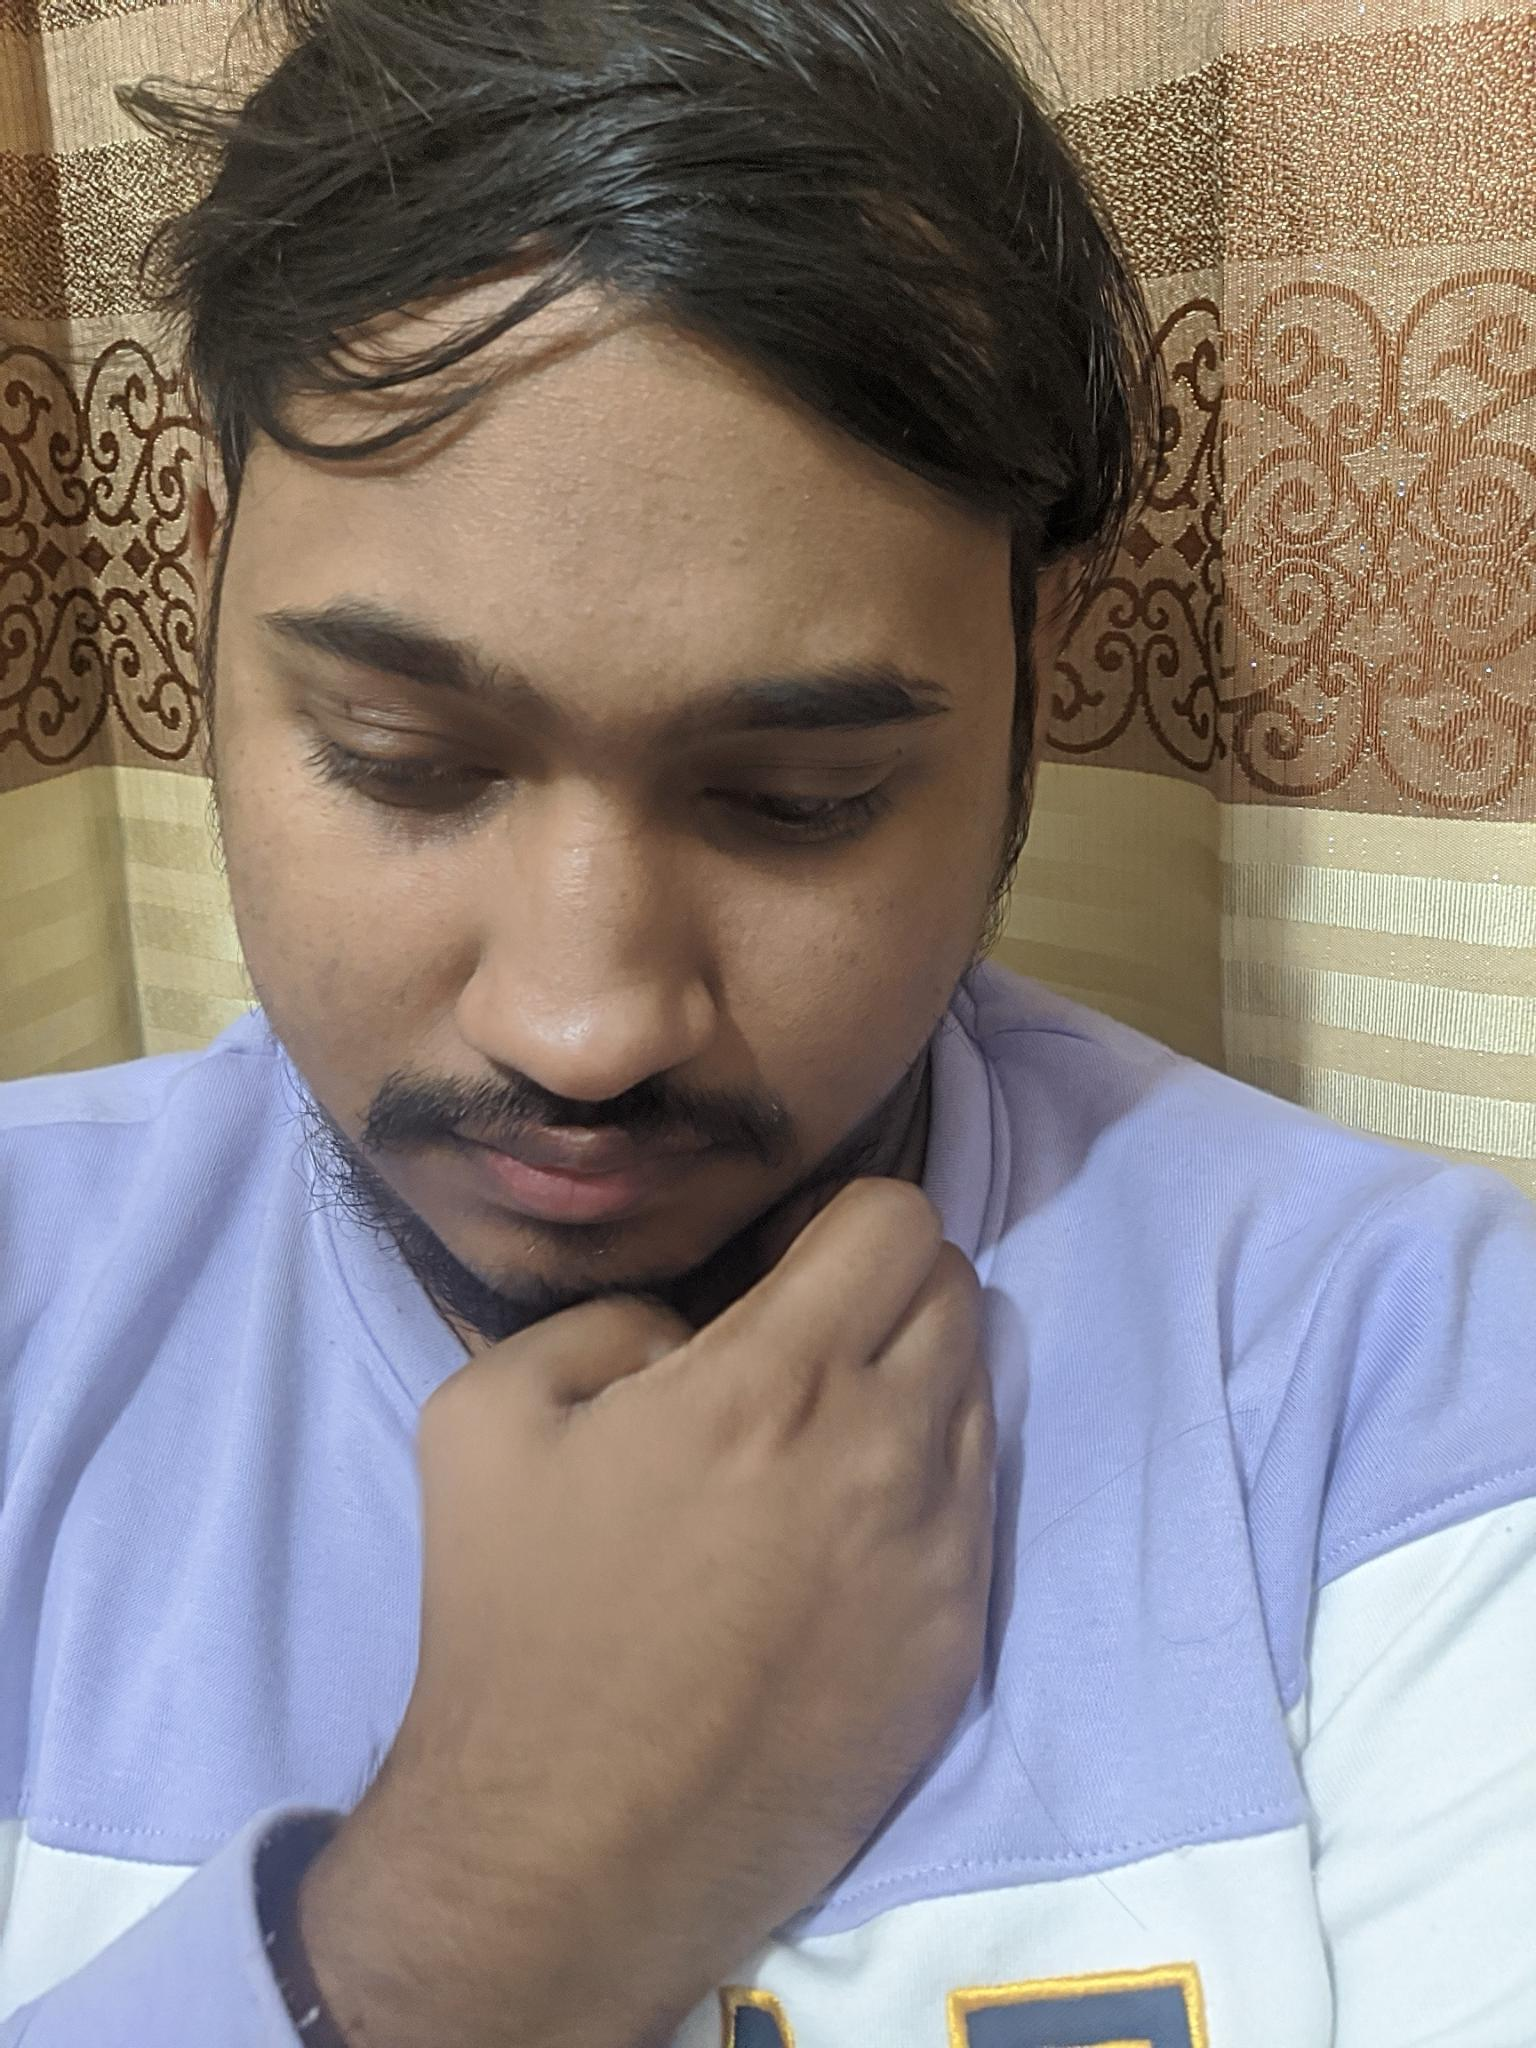Neutral: (189, 476, 1049, 1335)
